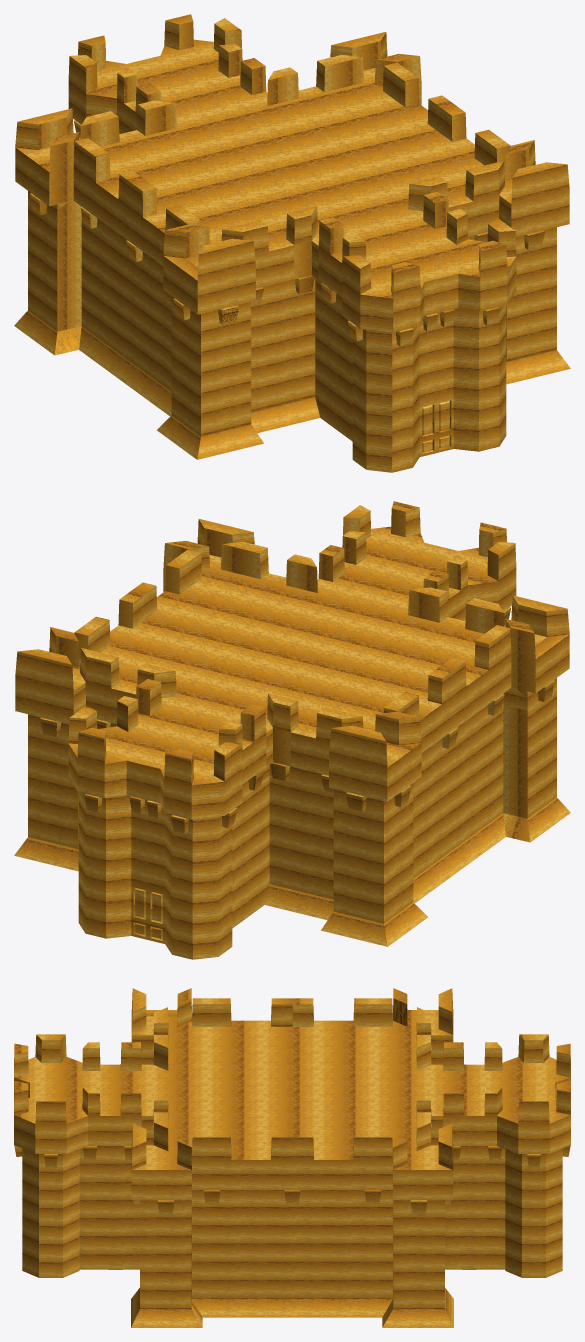
The model's file is Castle.FBX.
3 views of the same model, one above another, from view 1: azimuth 30°, elevation 25°; view 2: azimuth 150°, elevation 25°; view 3: azimuth 270°, elevation 25° (orthographic). The views are drawn at different scales.
Visible parts, largest first — view 1: Castle; view 2: Castle; view 3: Castle.
Part boxes in pixels (box(x1,y1,x2,y2)): Castle: box(14, 14, 570, 472); Castle: box(14, 501, 570, 959); Castle: box(14, 988, 570, 1327).
Bounding box in the file's own units: 2301 × 3369 × 1203.
1 material, 1 textured.
